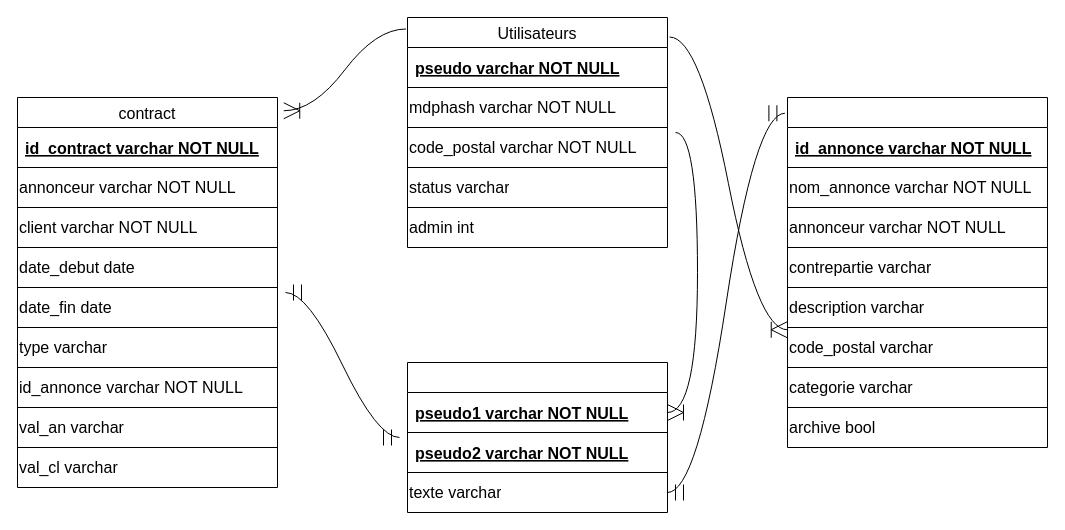
Image size: 1065x530. Some labels were removed from this diagram. The shapes that lost their labels are listed below. From the top down, each one's box as (x1, y1, x2, y2) in pixels, then its label:
(786, 96, 1048, 448): Liste_annonce
(406, 362, 668, 512): Chat
